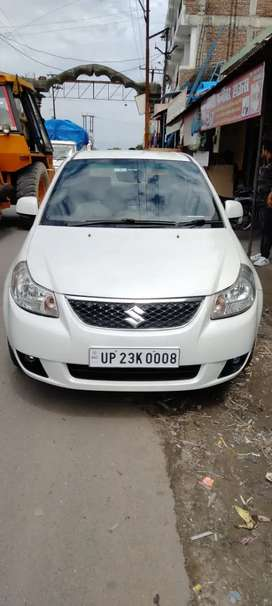UP23K0008: (89, 348, 180, 368)
